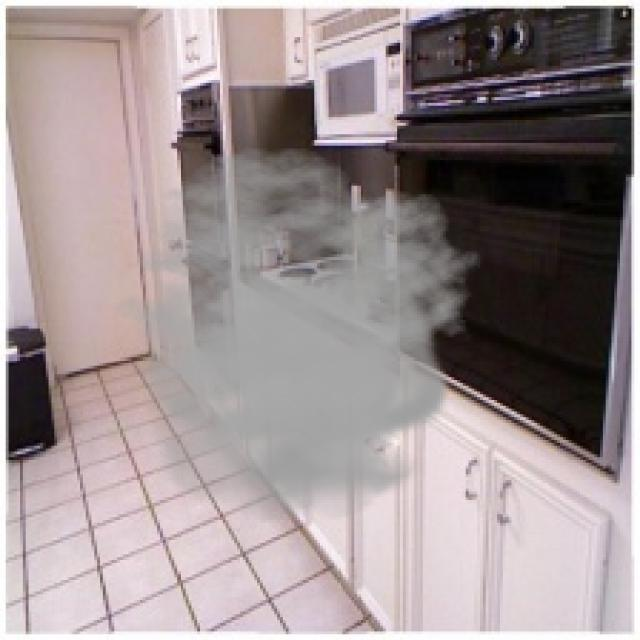Smoke: (91, 146, 483, 523)
